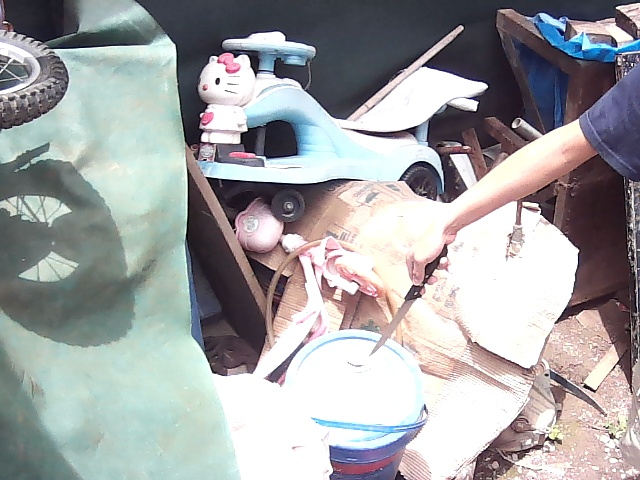cuchillo: (363, 284, 418, 360)
